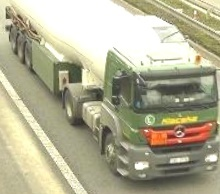truck: (5, 0, 220, 186)
